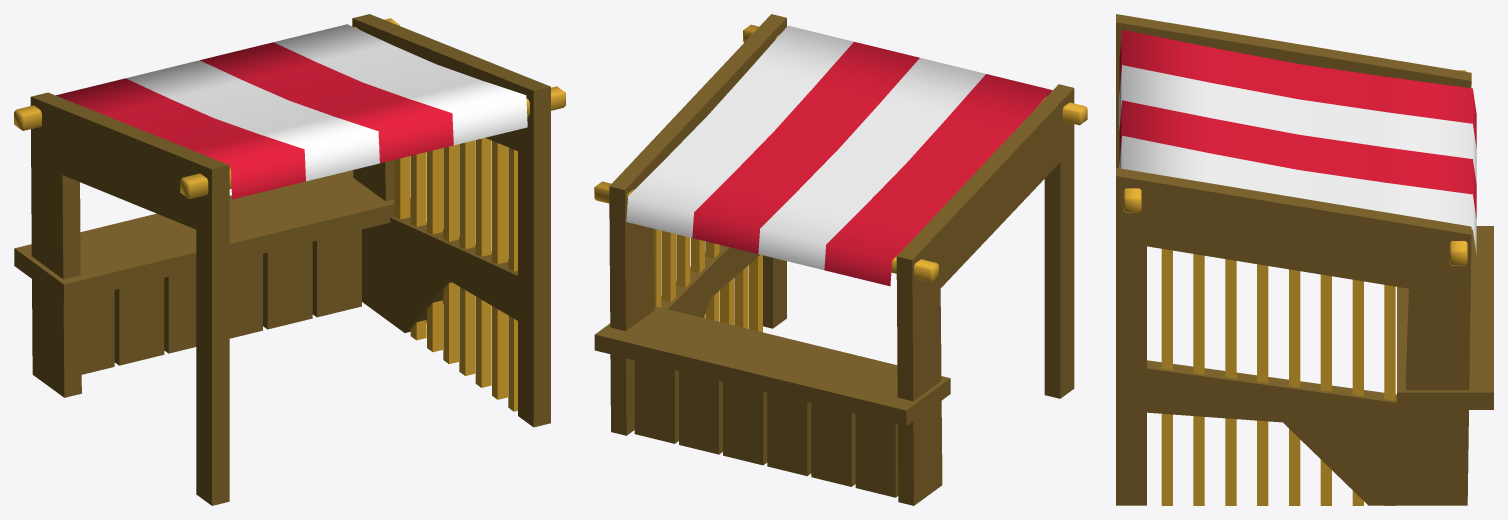
Rendered from TinyMarket.fbx.
3 views of the same model, side by side, from view 1: azimuth 30°, elevation 25°; view 2: azimuth 150°, elevation 25°; view 3: azimuth 270°, elevation 25° (orthographic). The views are drawn at different scales.
Parts seen in each view (by area): view 1: TinyMarketCover_R&W, TinyMarketStructure, TinyMarket_WindowBars, TinyMarketFront, TinyMarketDesk, TinyMarketStructure.002, TinyMarketStructure.003, TinyMarketStructure.001, WoodBeam, WoodBeam.001; view 2: TinyMarketCover_R&W, TinyMarketFront, TinyMarketDesk, TinyMarketStructure, TinyMarketStructure.002, TinyMarketStructure.001, TinyMarketStructure.003, TinyMarket_WindowBars, WoodBeam.001, WoodBeam; view 3: TinyMarketStructure, TinyMarketCover_R&W, TinyMarket_WindowBars, TinyMarketDesk, TinyMarketStructure.002, TinyMarketStructure.003, WoodBeam.001, WoodBeam.
Part boxes in pixels (left/top/right/bottom): TinyMarketCover_R&W: left=56, top=24, right=527, bottom=199; TinyMarketStructure: left=352, top=14, right=550, bottom=427; TinyMarket_WindowBars: left=394, top=138, right=517, bottom=411; TinyMarketFront: left=81, top=229, right=361, bottom=374; TinyMarketDesk: left=14, top=170, right=410, bottom=302; TinyMarketStructure.002: left=31, top=92, right=228, bottom=229; TinyMarketStructure.003: left=196, top=165, right=229, bottom=505; TinyMarketStructure.001: left=30, top=97, right=81, bottom=397; WoodBeam: left=180, top=86, right=565, bottom=198; WoodBeam.001: left=14, top=18, right=399, bottom=130; TinyMarketCover_R&W: left=626, top=25, right=1052, bottom=286; TinyMarketFront: left=634, top=360, right=898, bottom=497; TinyMarketDesk: left=594, top=306, right=950, bottom=426; TinyMarketStructure: left=609, top=14, right=786, bottom=435; TinyMarketStructure.002: left=897, top=84, right=1074, bottom=288; TinyMarketStructure.001: left=896, top=256, right=942, bottom=505; TinyMarketStructure.003: left=1044, top=89, right=1074, bottom=398; TinyMarket_WindowBars: left=653, top=228, right=762, bottom=332; WoodBeam.001: left=594, top=181, right=938, bottom=282; WoodBeam: left=743, top=24, right=1087, bottom=125; TinyMarketStructure: left=1116, top=167, right=1471, bottom=505; TinyMarketCover_R&W: left=1119, top=29, right=1476, bottom=253; TinyMarket_WindowBars: left=1161, top=249, right=1395, bottom=505; TinyMarketDesk: left=1397, top=226, right=1493, bottom=409; TinyMarketStructure.002: left=1116, top=14, right=1471, bottom=87; TinyMarketStructure.003: left=1116, top=22, right=1121, bottom=167; WoodBeam.001: left=1449, top=70, right=1467, bottom=265; WoodBeam: left=1123, top=188, right=1141, bottom=212.
Size of the model in its own units: 18.49 by 16.31 by 15.8.
